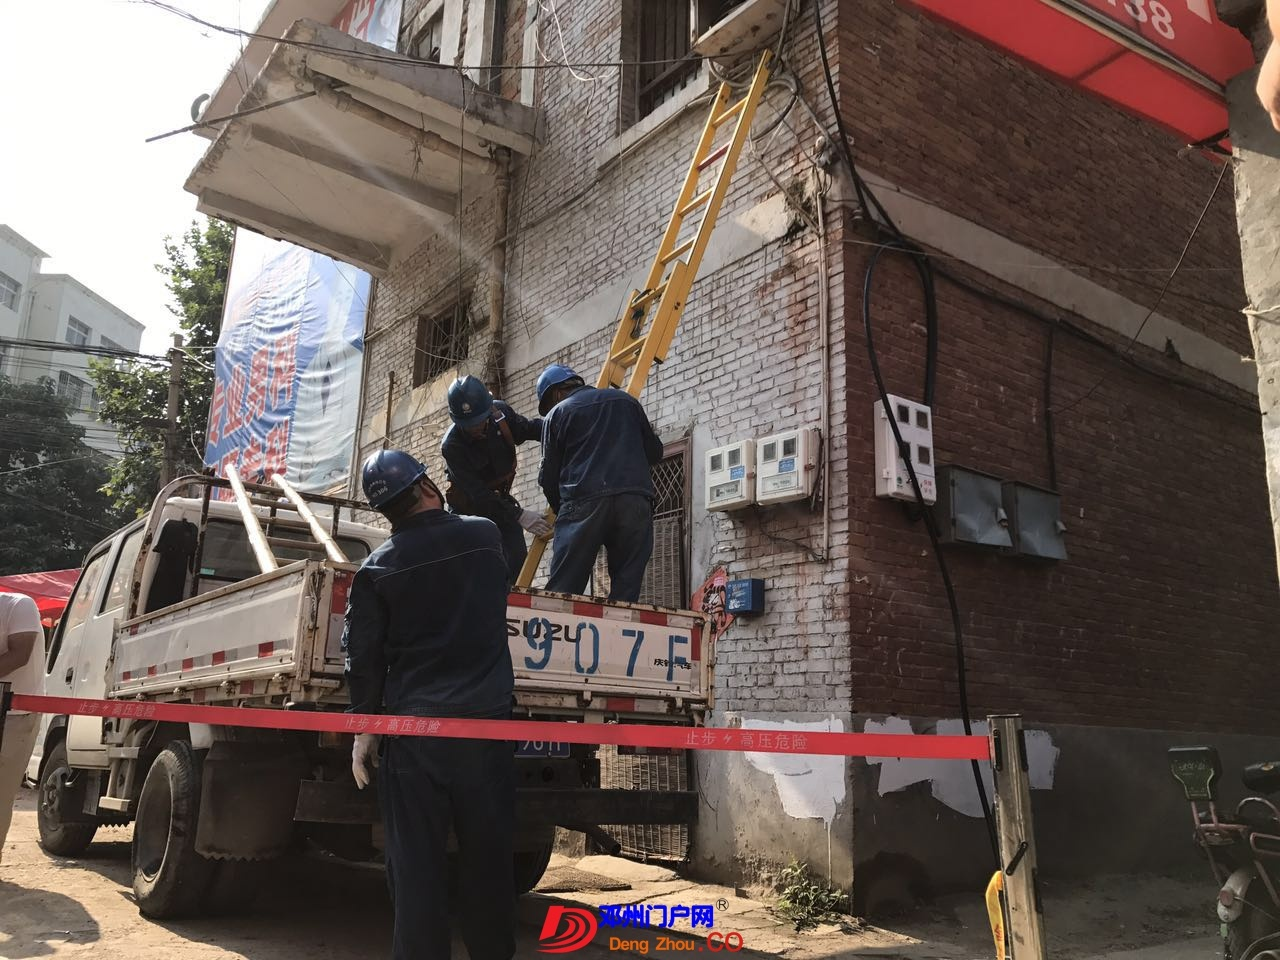blue: (357, 449, 441, 521), (442, 376, 498, 439), (534, 362, 584, 415)
